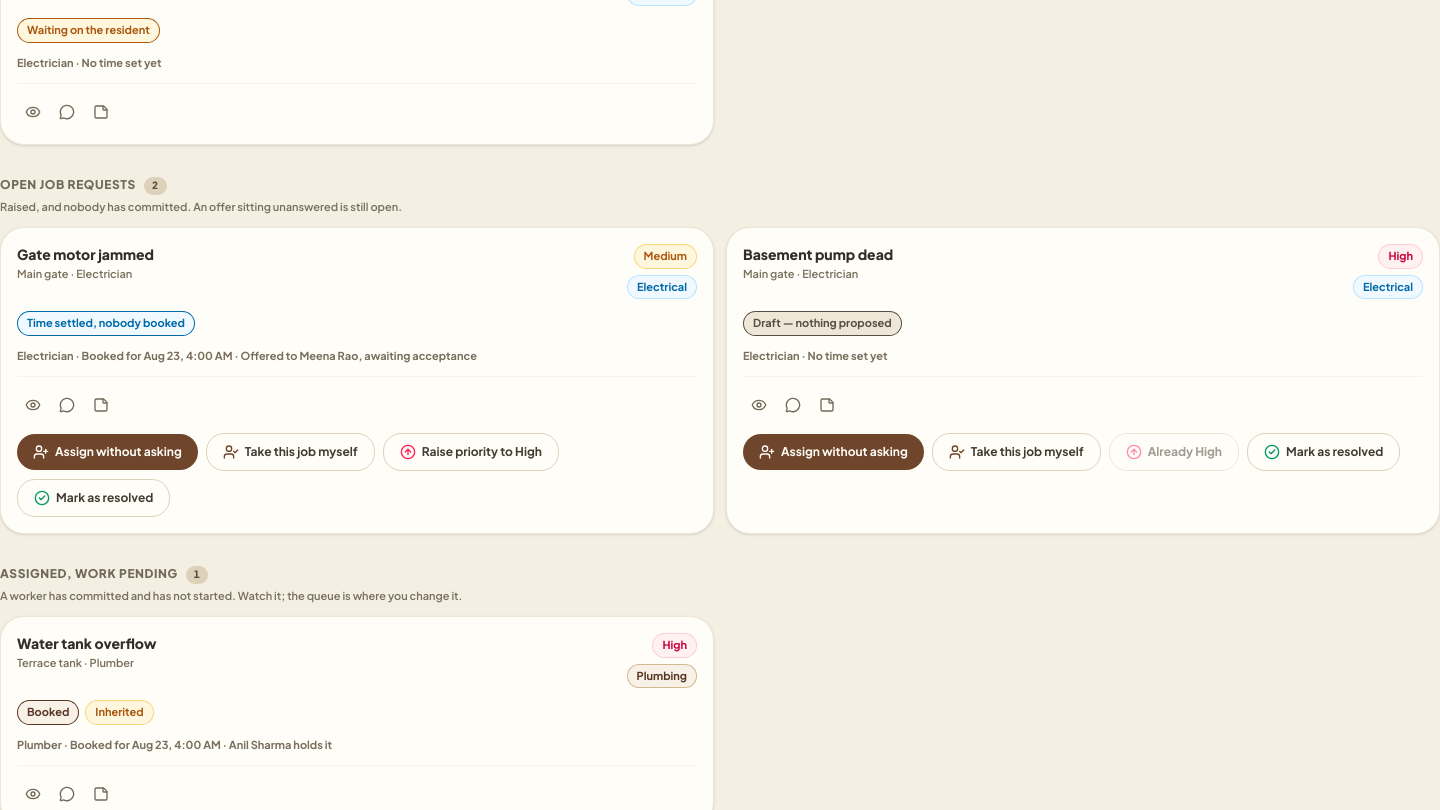
Test: section 4 — open job requests › repeats the take-up inside the eye popup, where the reader now is
The width and height of the screenshot is (1440, 810).
(page scrolled)
Check: the heading "Gate motor jammed" is shown, box [17, 244, 154, 264]
Click the button named "View details of" at point(33, 405), box [17, 389, 49, 421]
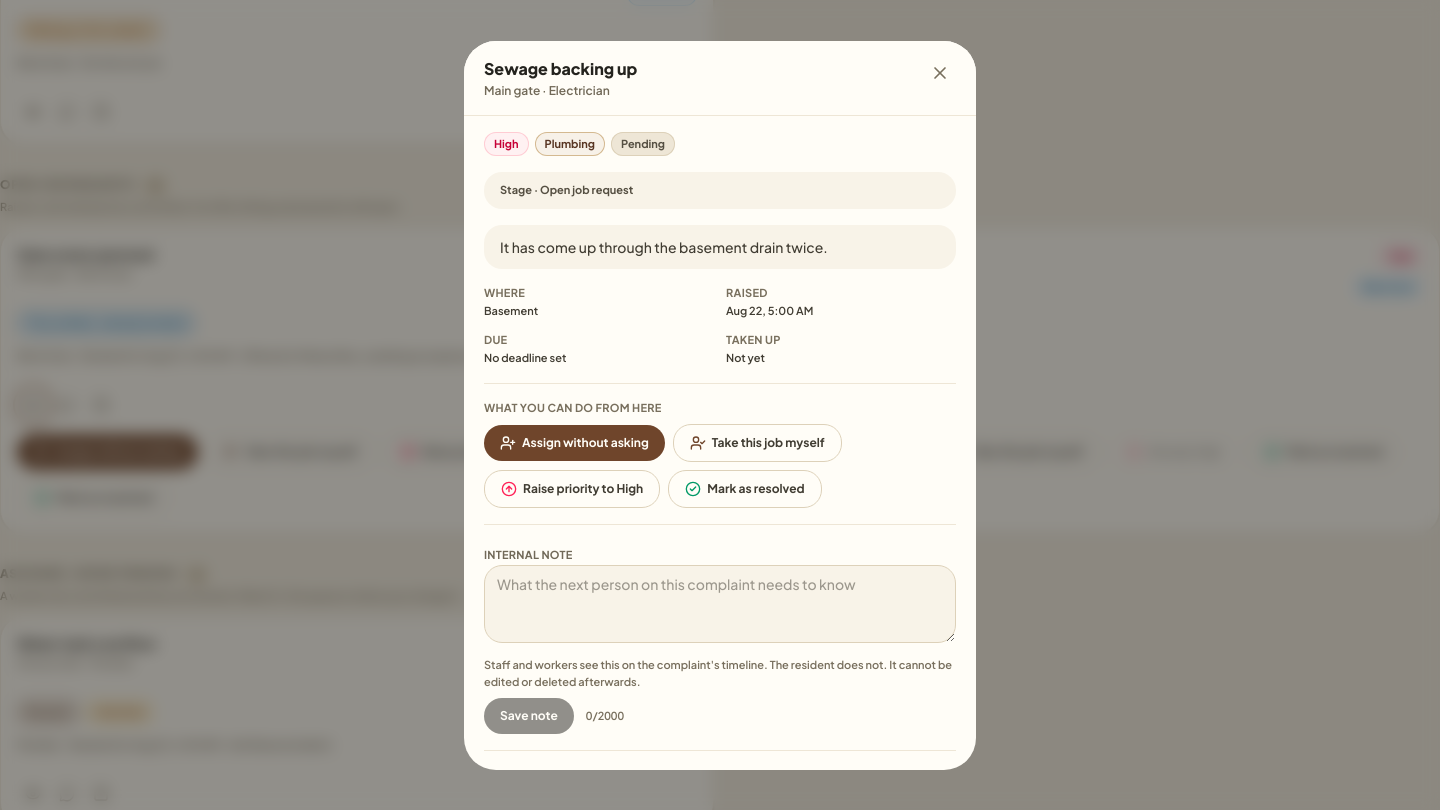
Click the button "Take this job myself" at point(757, 443), box [673, 424, 842, 462]
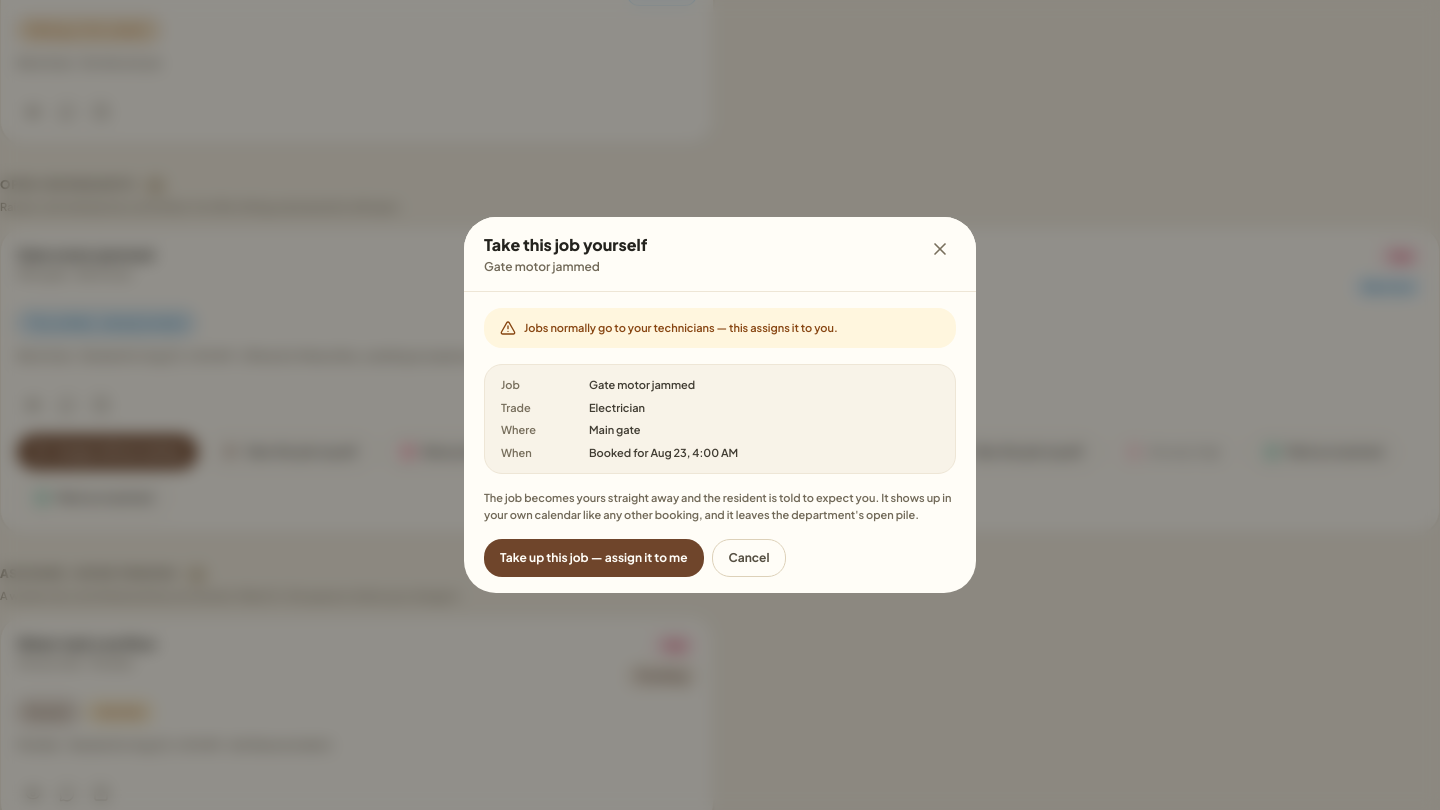
Check: the text "Jobs normally go to your technicians" is shown, box [524, 321, 838, 334]
